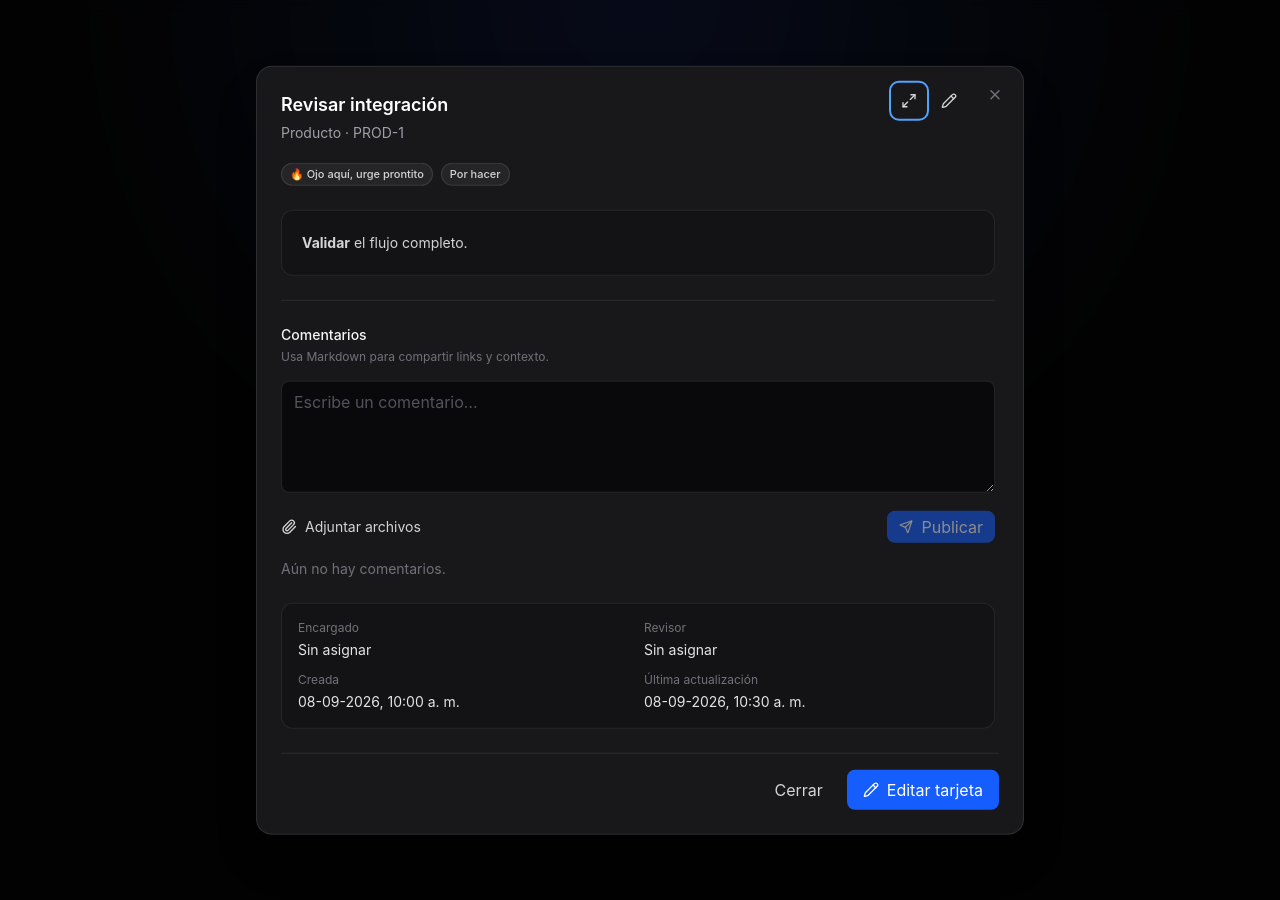
TaskCardModal › muestra preview antes de permitir editar la tarjeta
Expected: the heading "Revisar integración" is shown, [281,94,448,115]
Expected: the text "Validar" is shown, [302,233,350,250]
Click the button named "Ver en pantalla completa".
click(909, 101)  # box [891,83,927,119]
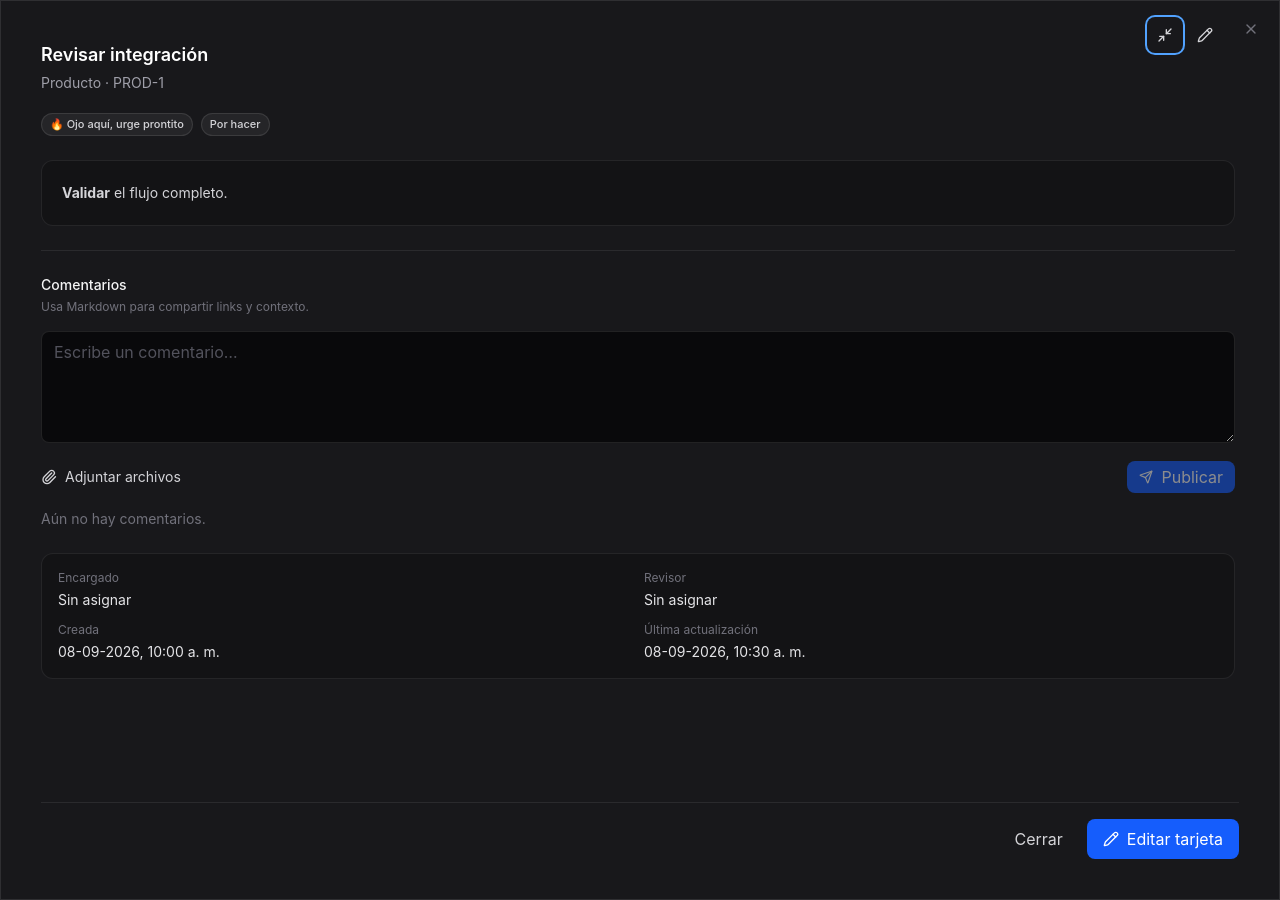
Expected: the button named "Salir de pantalla completa" is shown, [1147,17,1183,53]
Click the button "Editar tarjeta".
click(1163, 839)  # box [1087,819,1239,859]
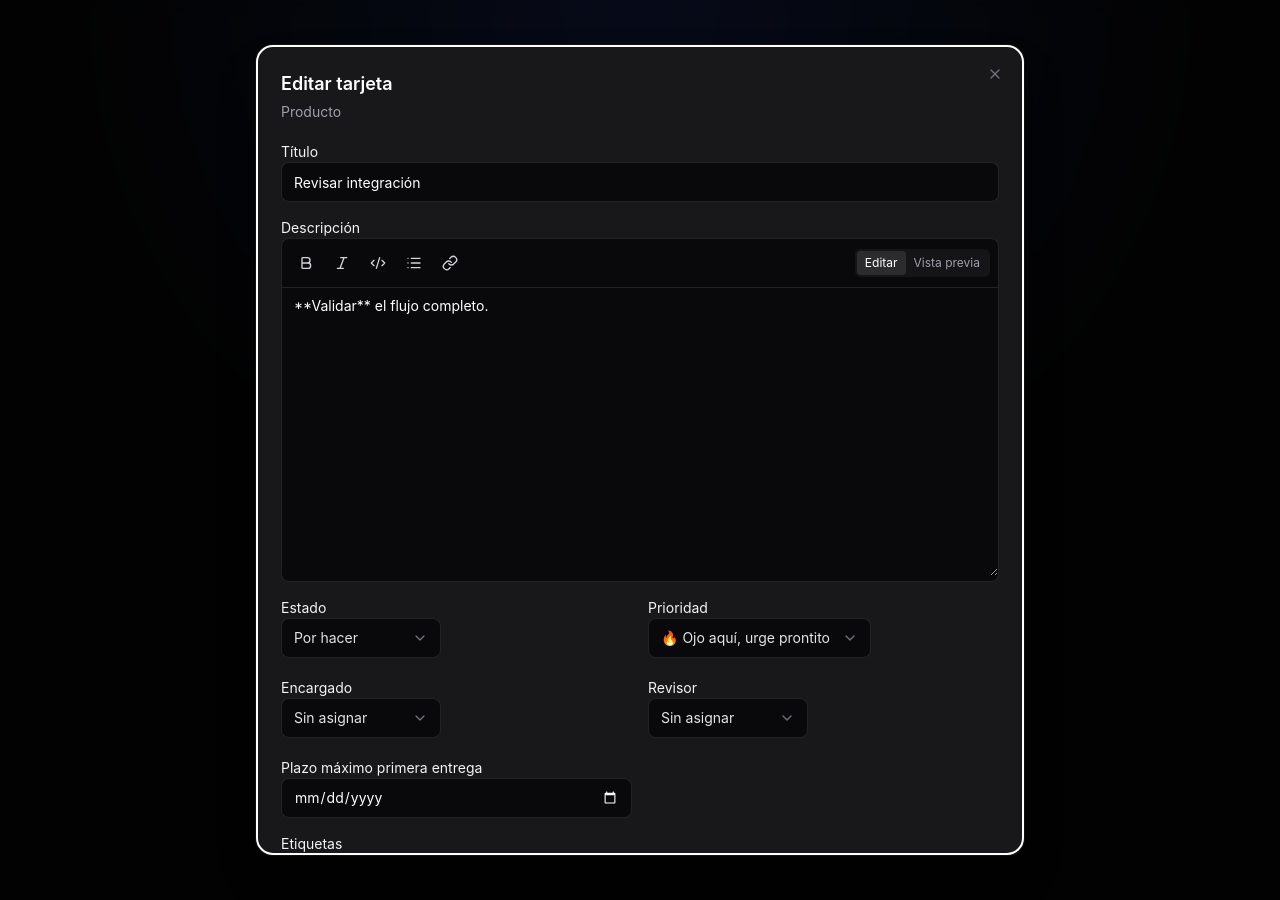
Expected: the field labelled "Título" is shown, [281,162,999,202]
